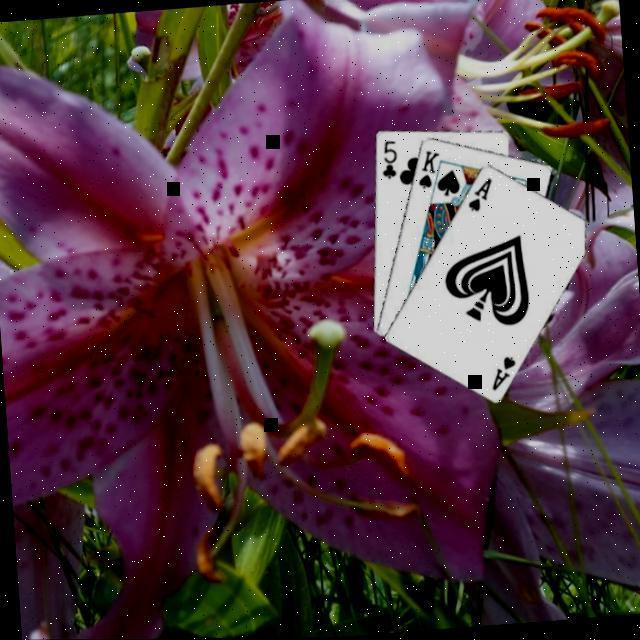5C: (376, 136, 399, 180)
AS: (485, 351, 520, 393), (462, 173, 495, 213)
KS: (412, 145, 443, 191)
